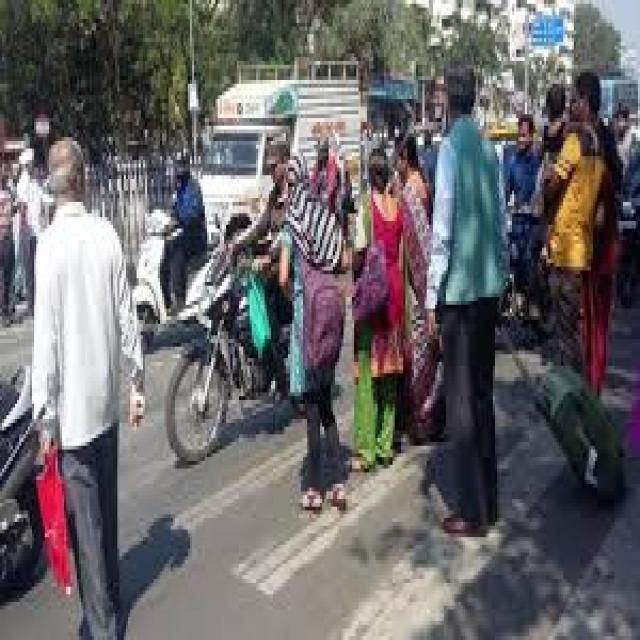person ahead at: (26, 141, 149, 640)
